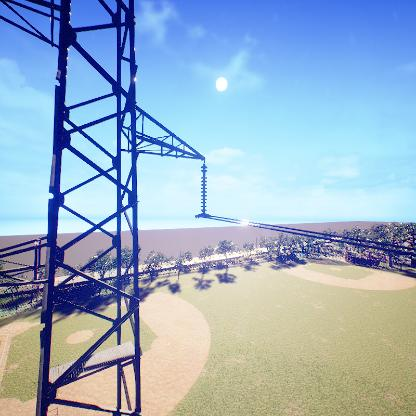insulator: (199, 162, 209, 214)
